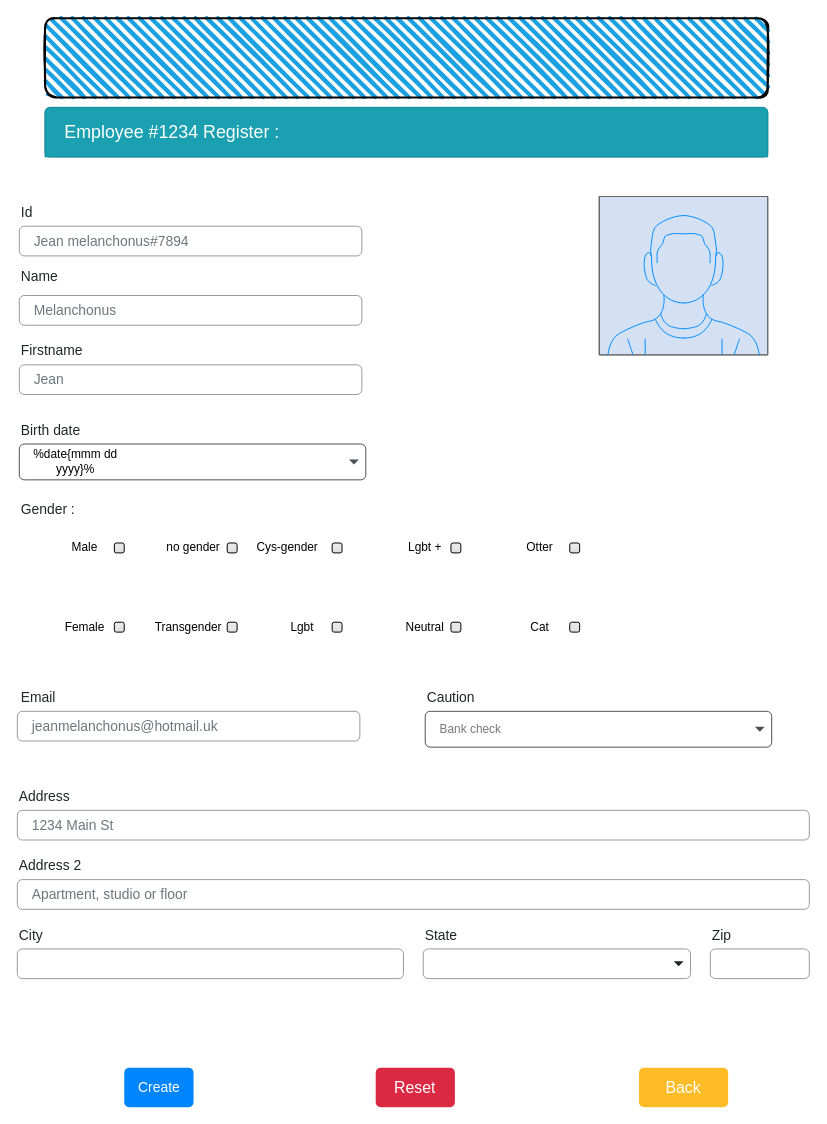
This 827x1124 diagram has some shape labels left out. The shapes that lost their labels are listed below. From the top down, each one's box as (x1, y1, x2, y2) in pixels, then its label:
(44, 17, 768, 98): LOGO MED
(422, 948, 691, 979): Choose...
